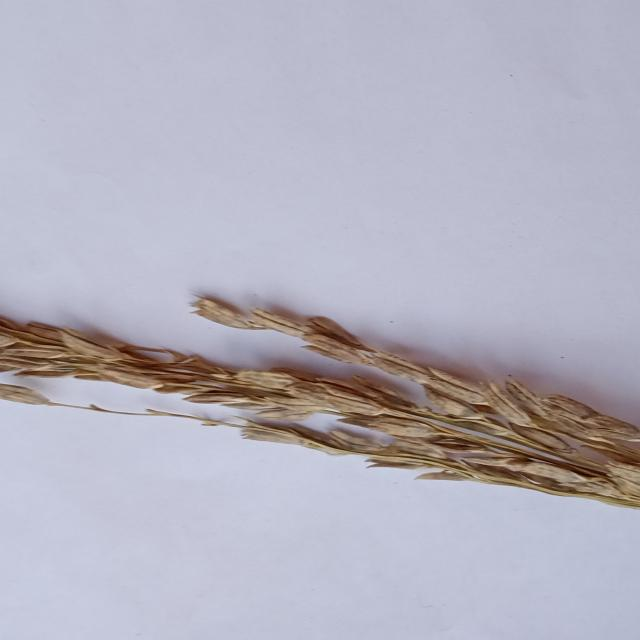Neck_Blast: (6, 320, 640, 510), (197, 291, 640, 467)
